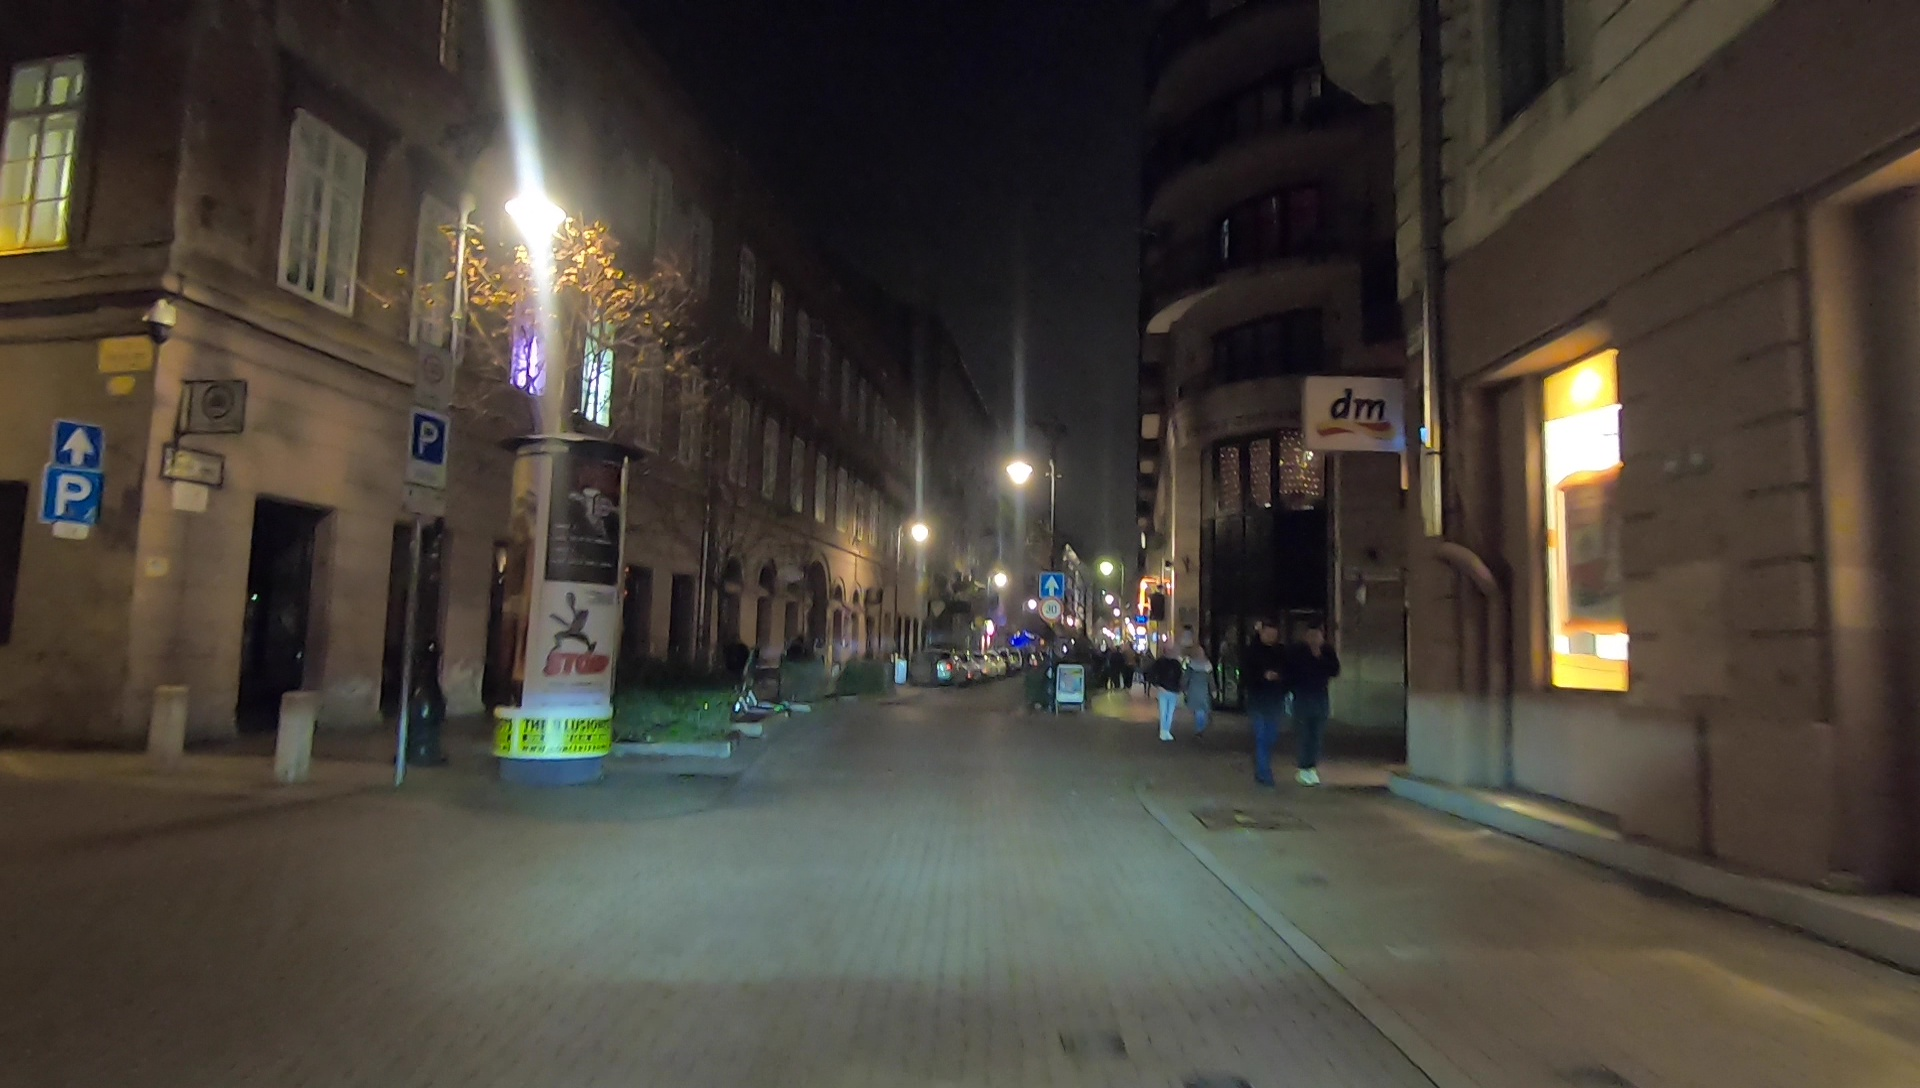person: (1299, 617, 1338, 786), (1247, 613, 1284, 786), (1149, 649, 1182, 739), (1186, 641, 1214, 723)
